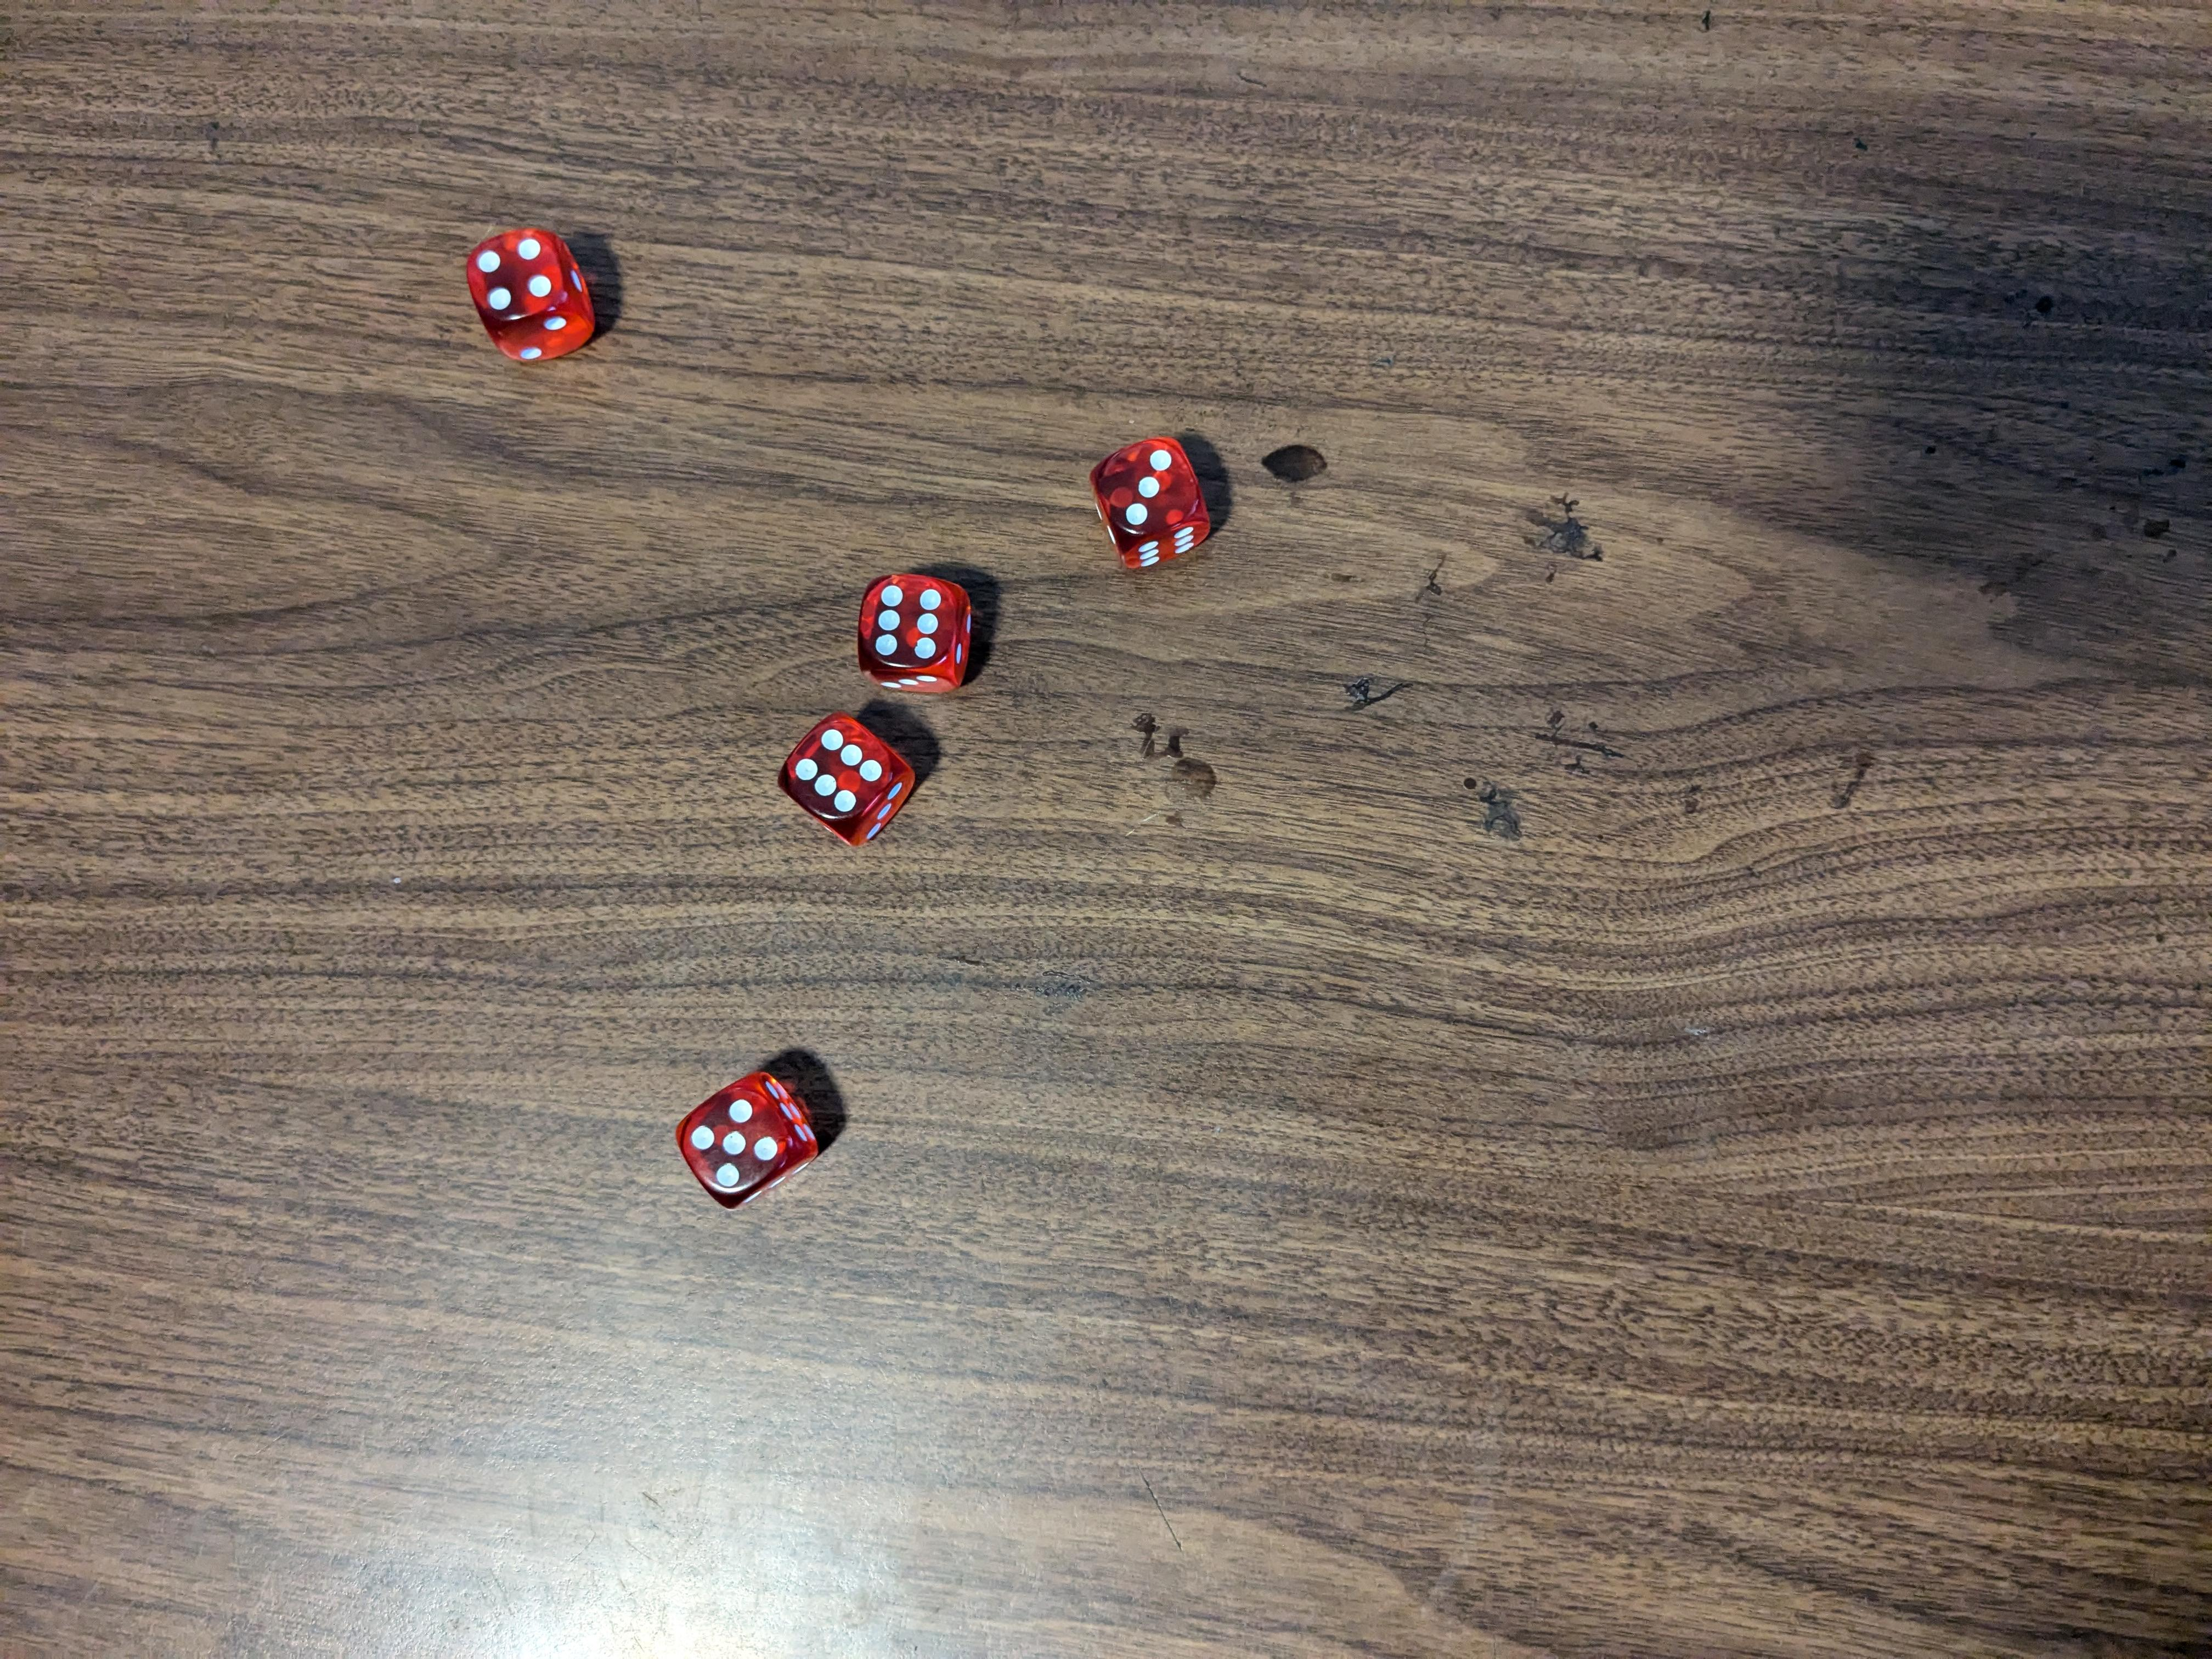five: (674, 1065, 829, 1204)
four: (462, 228, 604, 369)
six: (779, 711, 923, 854), (853, 577, 974, 695)
three: (1101, 432, 1209, 575)
